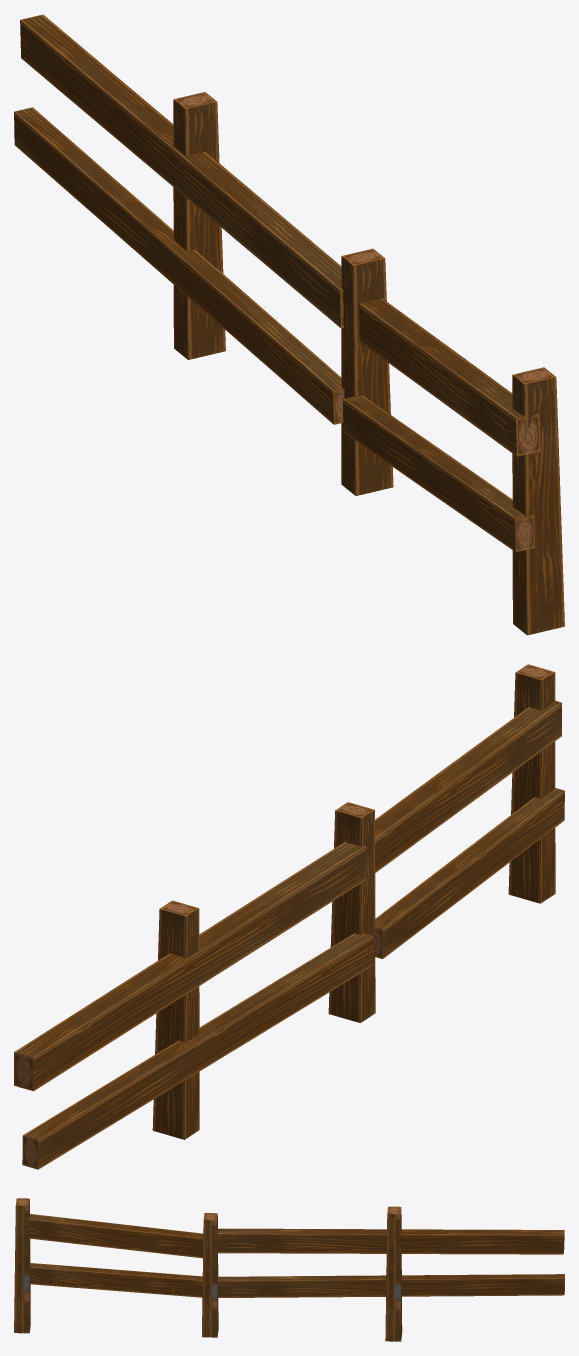
3 renders of one model, top to bottom at view 1: azimuth 30°, elevation 25°; view 2: azimuth 150°, elevation 25°; view 3: azimuth 270°, elevation 25°, orthographic. The views are drawn at different scales.
Parts seen in each view (by area): view 1: Cube.028; view 2: Cube.028; view 3: Cube.028.
Boxes of the visible parts, x1,y1,x2,y2 form: Cube.028: [14, 14, 564, 635]; Cube.028: [14, 664, 564, 1169]; Cube.028: [14, 1198, 564, 1341].
Size of the model in its own units: 43.66 by 133 by 523.
Materials: 1 (1 with a texture image).
